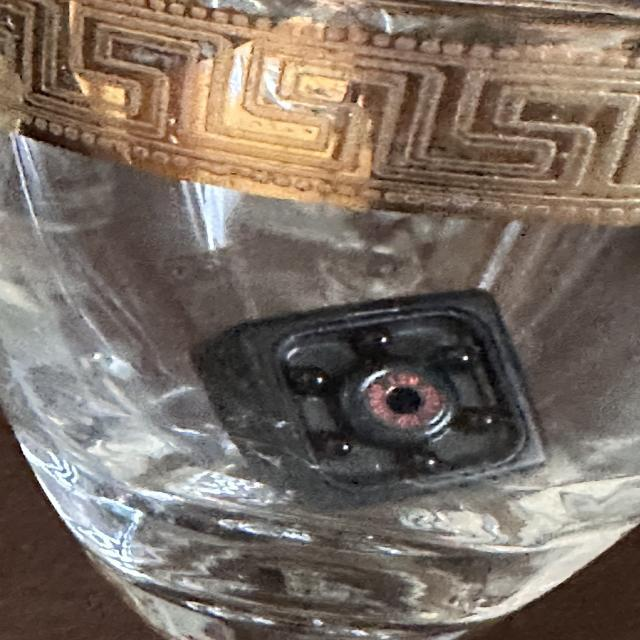hidden camera: (359, 366, 450, 435)
